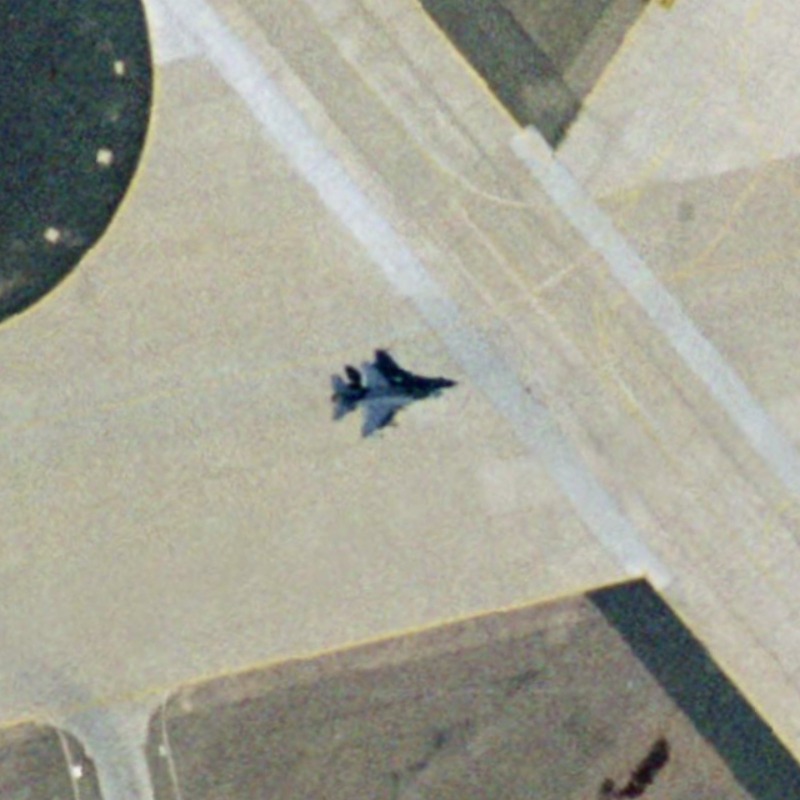A5: (322, 357, 444, 444)
